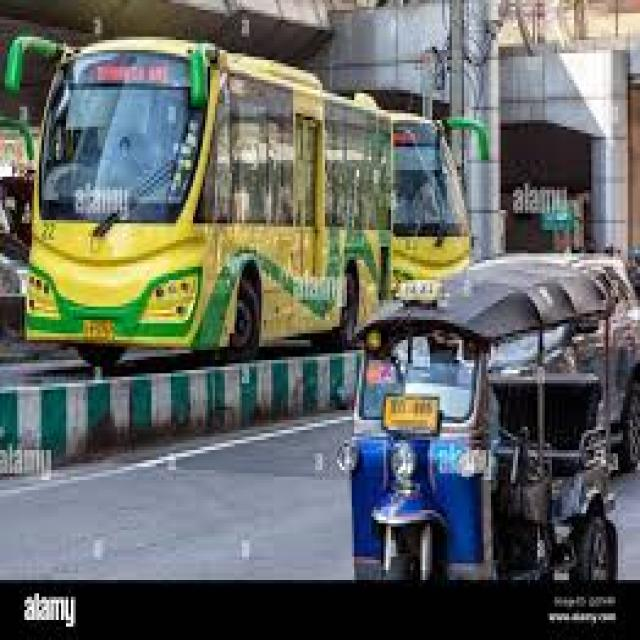bus: (7, 22, 304, 381), (397, 89, 496, 268)
tuktuk: (328, 279, 624, 582)
